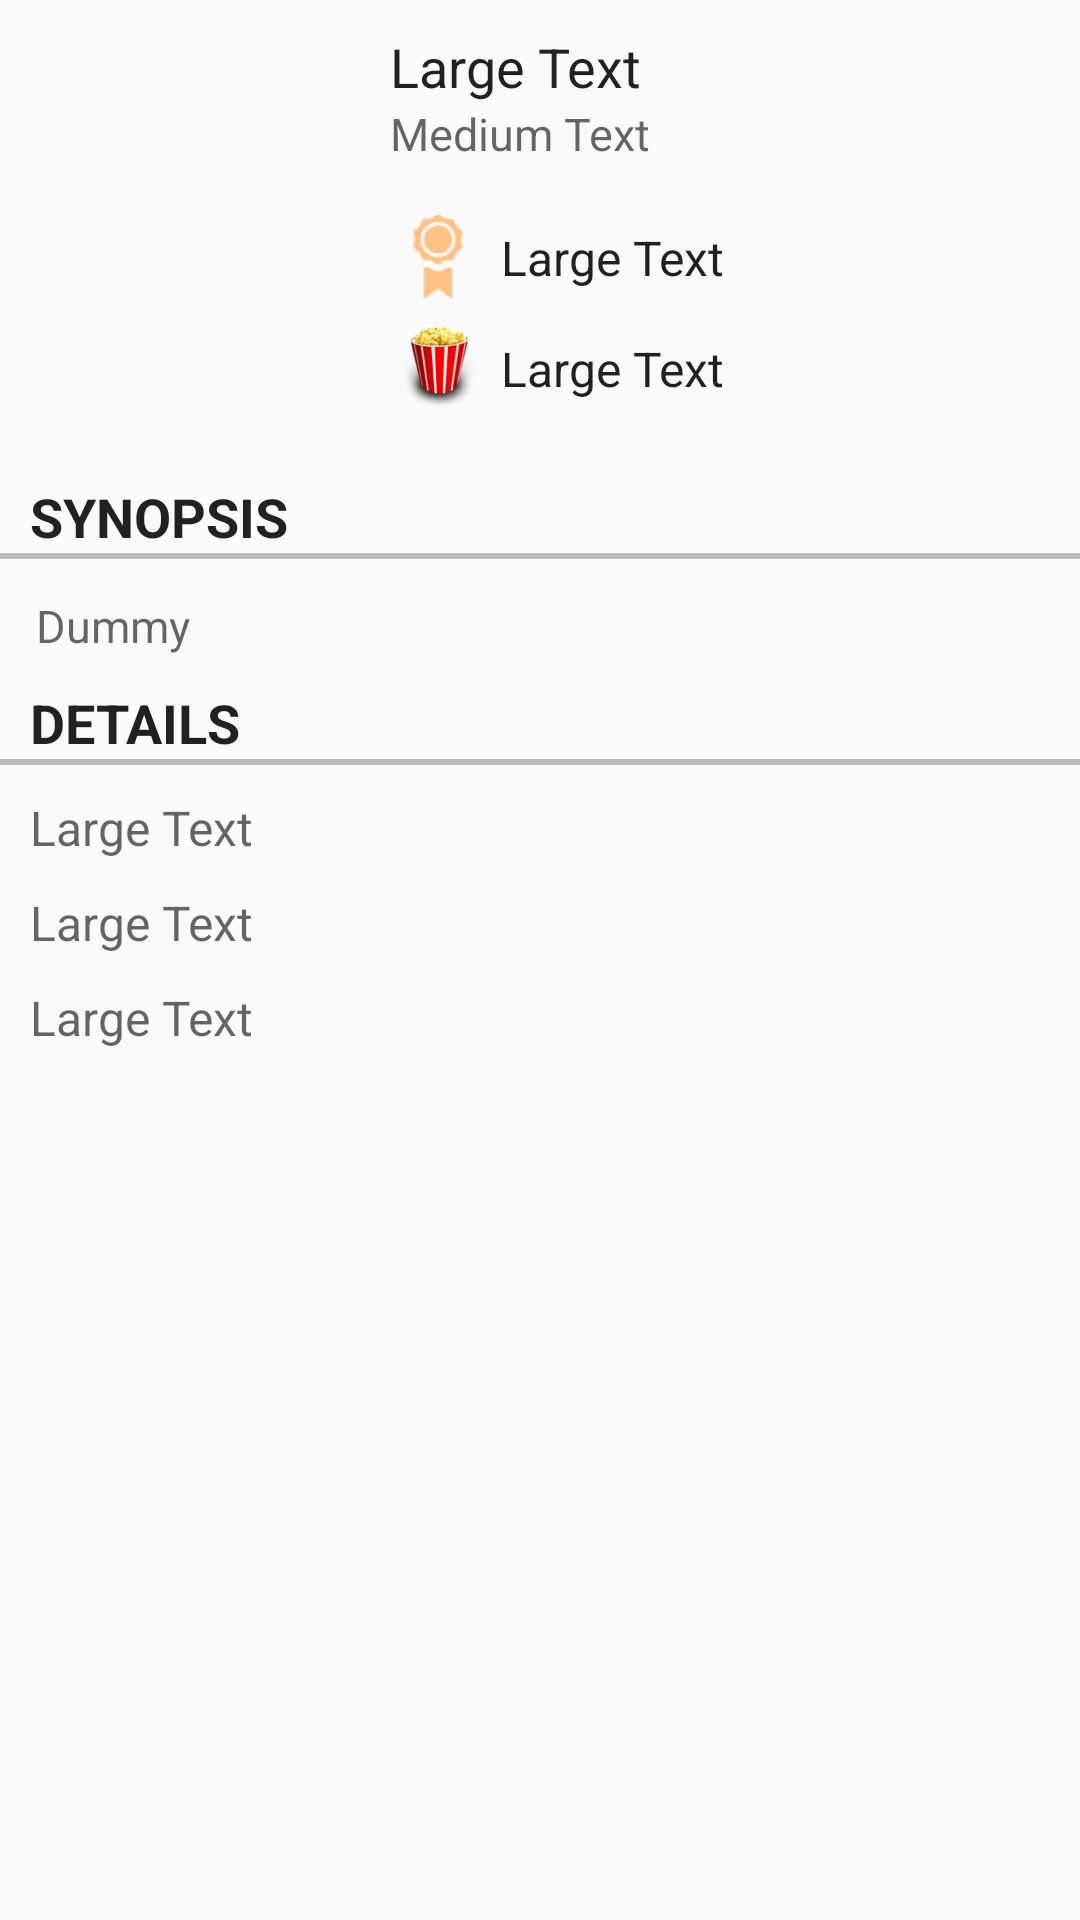

Icons on this 1080px×1920px Android screen, each with the point to tap as point (x, y):
critics: point (438, 257)
popcorn: point (439, 365)
